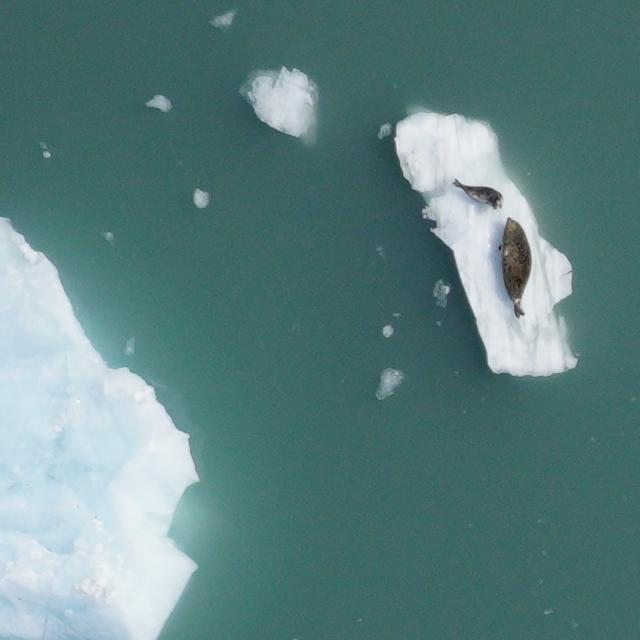seal: (495, 215, 534, 322), (449, 177, 507, 213)
